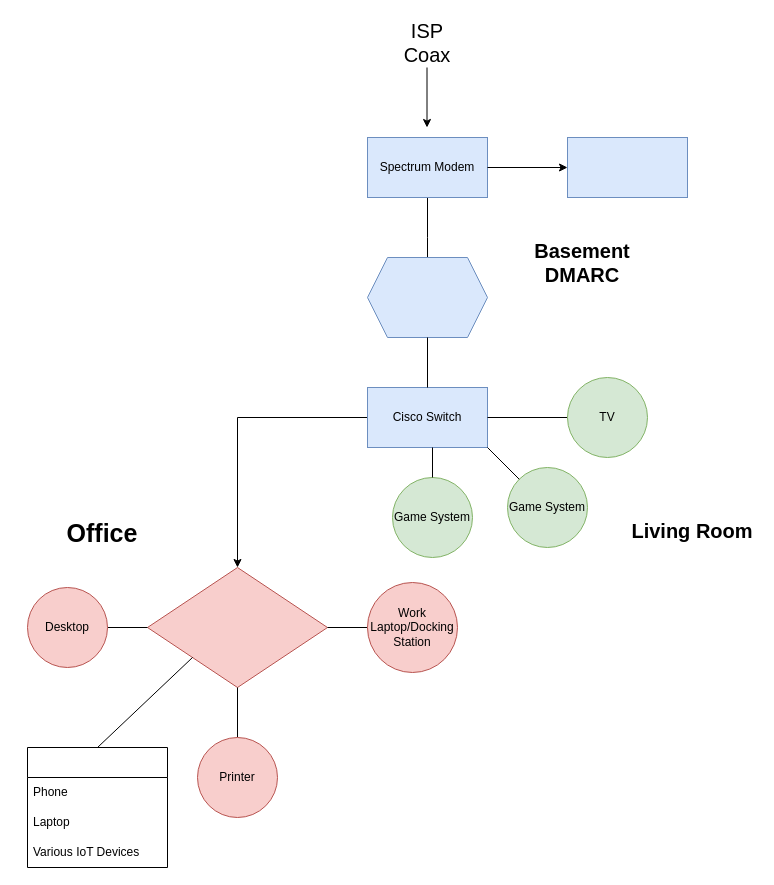
Image size: 774x885. Some labels were removed from this diagram. Here are the shapes that lost their labels. From the top down, the box of each, then its label:
(566, 136, 688, 198): Spectrum Router Currently Unplugged
(366, 256, 488, 338): USG-Pro-4
(146, 566, 328, 688): RT-AX55/AP Mode Provides WiFi upstairs
(26, 746, 168, 868): WiFi Devices
